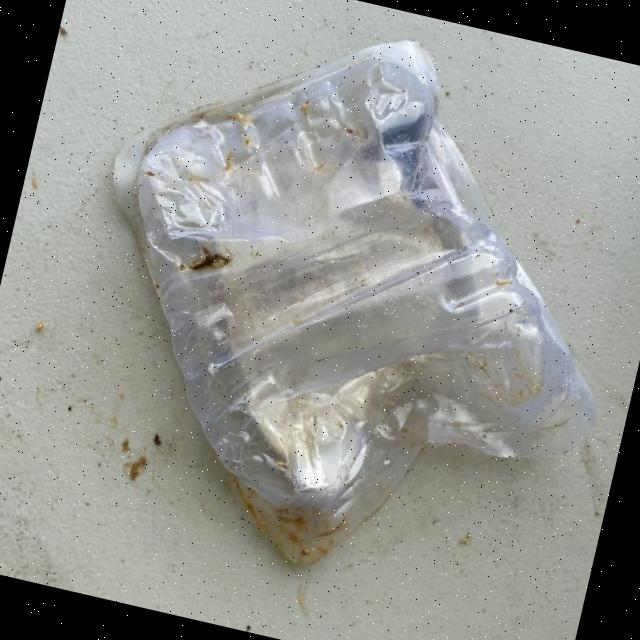plastic: (33, 0, 640, 621)
